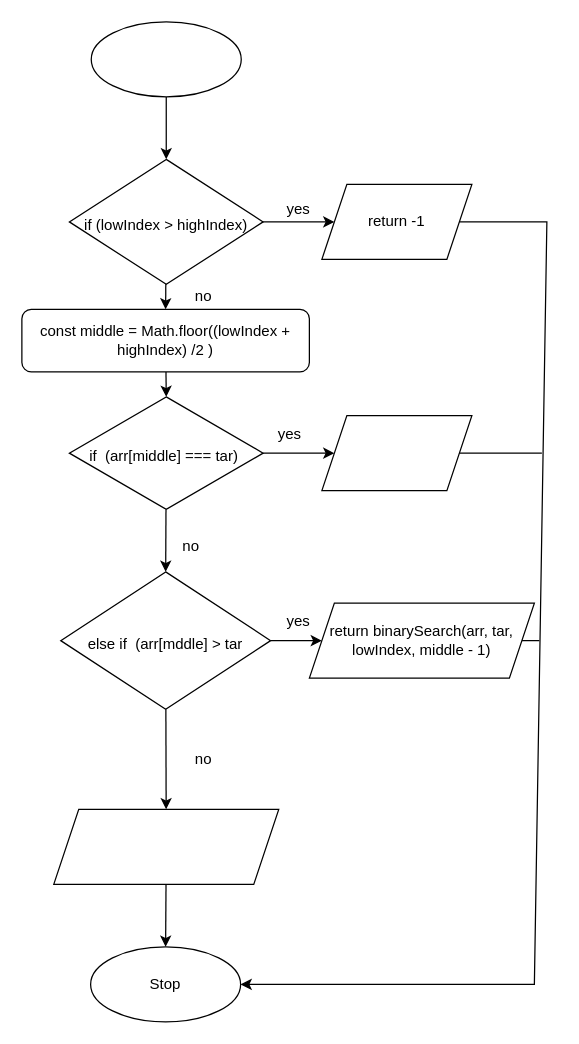
Some shapes in this 579 by 1044 pixel diagram are drawn without their labels. Each missing label, with the centre of its shape:
return binarySearch(arr, tar, middle + 1. highIndex: the point at 165,846
return middle: the point at 396,452
Start: the point at 165,59
